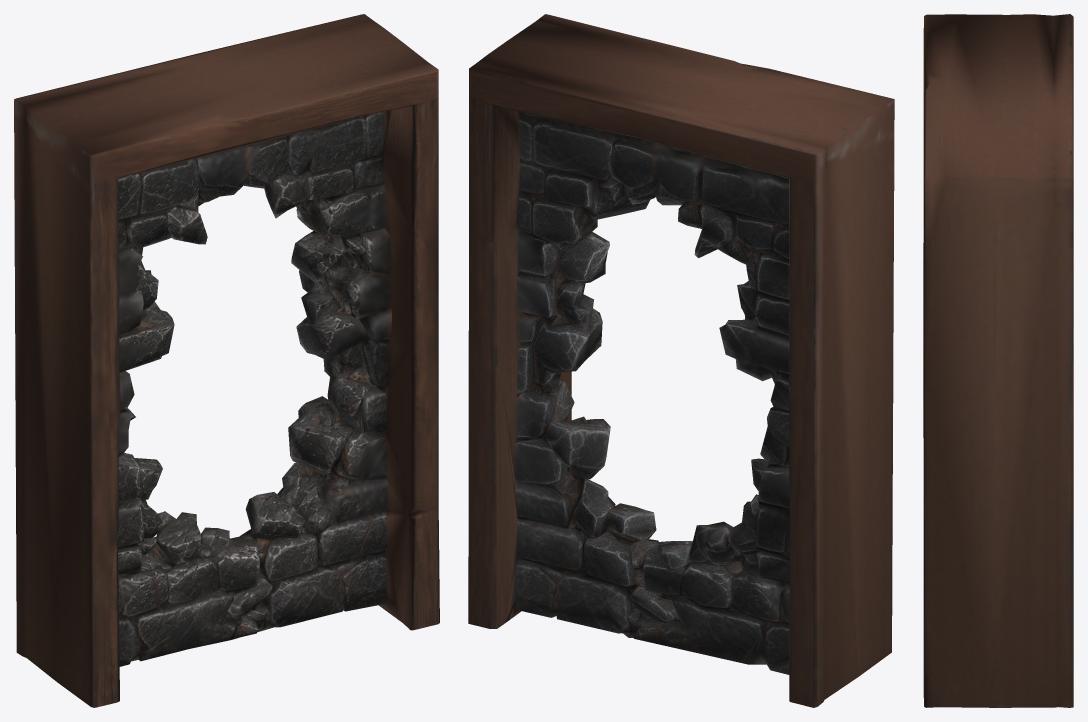
Rendered from Dungeon wall broken.glb.
3 views of the same model, side by side, from view 1: azimuth 30°, elevation 25°; view 2: azimuth 150°, elevation 25°; view 3: azimuth 270°, elevation 25° (orthographic). The views are drawn at different scales.
Bounding box in the file's own units: 0.6323 × 0.9536 × 0.2451.
1 material, 1 textured.
